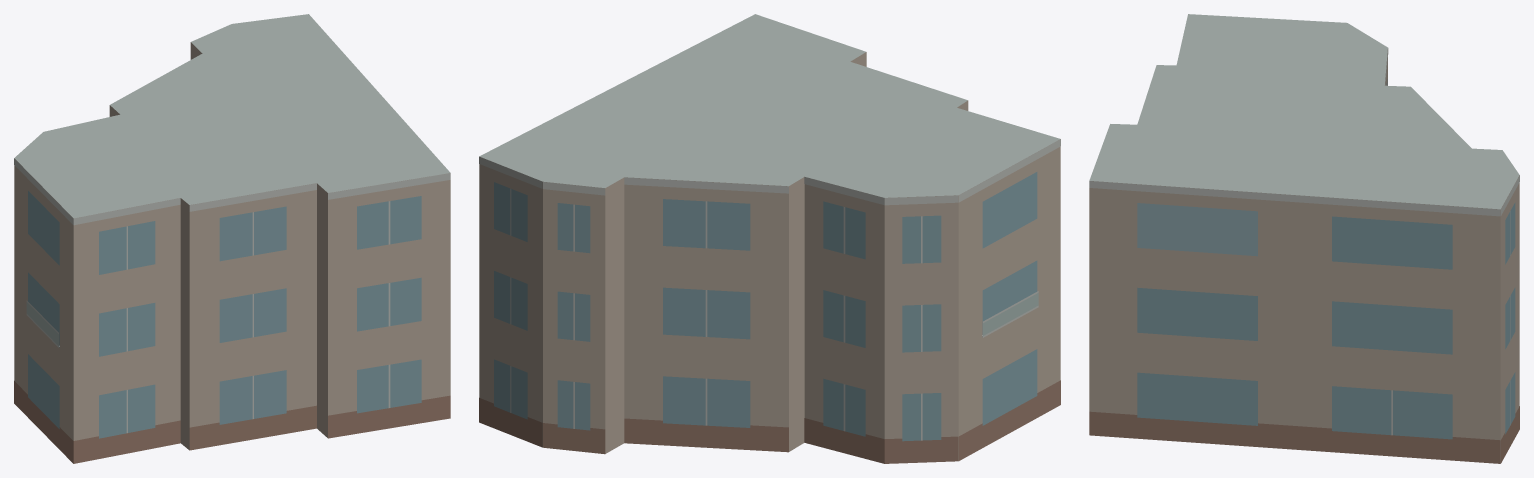
The model's file is survey-upis-32832813.glb.
3 views of the same model, side by side, from view 1: azimuth 30°, elevation 25°; view 2: azimuth 150°, elevation 25°; view 3: azimuth 270°, elevation 25° (orthographic). The views are drawn at different scales.
Parts seen in each view (by area): view 1: survey-upis-32832813.tmp; view 2: survey-upis-32832813.tmp; view 3: survey-upis-32832813.tmp.
Part boxes in pixels (<box>): survey-upis-32832813.tmp: <box>14,14,450,463</box>; survey-upis-32832813.tmp: <box>479,14,1060,463</box>; survey-upis-32832813.tmp: <box>1089,14,1519,463</box>.
Bounding box in the file's own units: 14.41 × 8.75 × 13.42.
